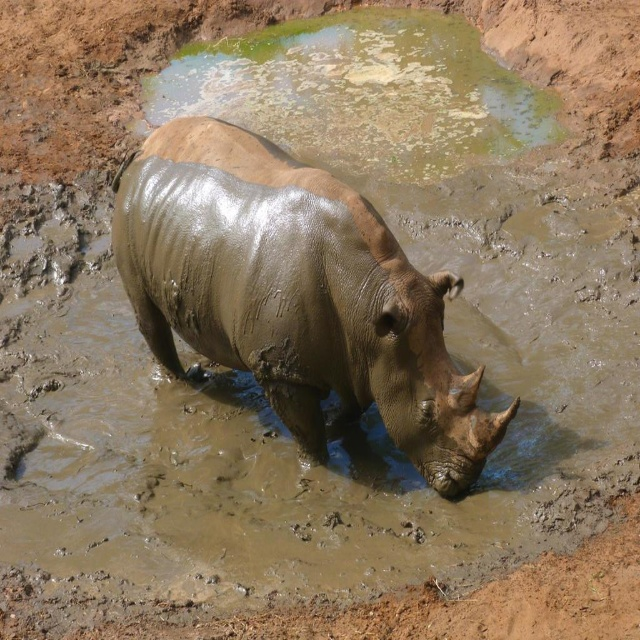Rhinoceros: (109, 111, 522, 506)
